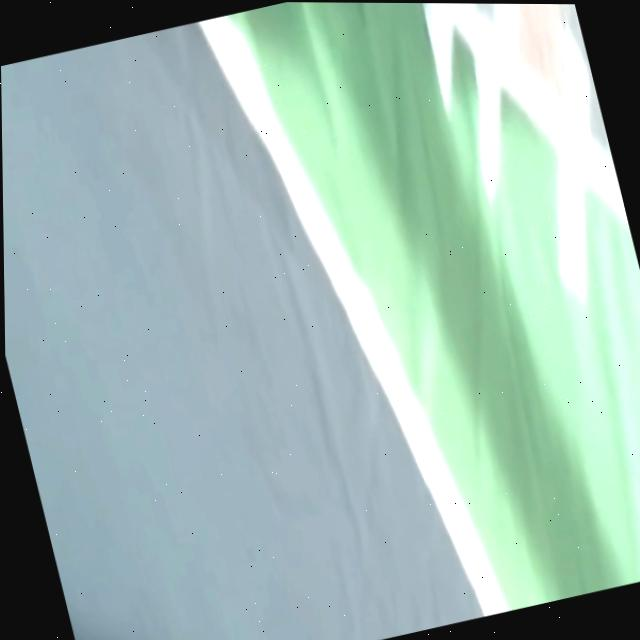right: (197, 15, 507, 614)
